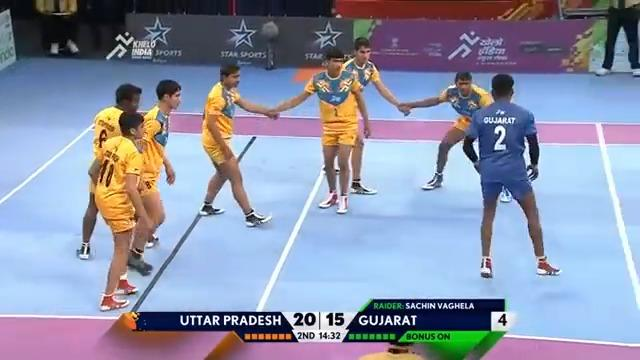Player: (267, 47, 371, 214), (318, 36, 411, 195), (197, 62, 280, 227), (398, 70, 500, 192), (76, 83, 144, 260), (93, 111, 153, 311), (126, 78, 182, 273)
Raider: (462, 73, 561, 278)
referee: (594, 1, 639, 77), (34, 0, 80, 56)
